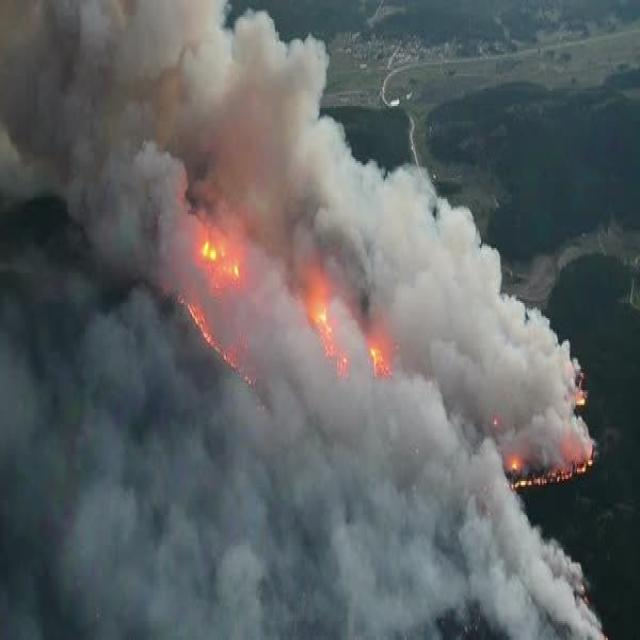Fire: (151, 173, 442, 431)
Smoke: (0, 0, 609, 640)
